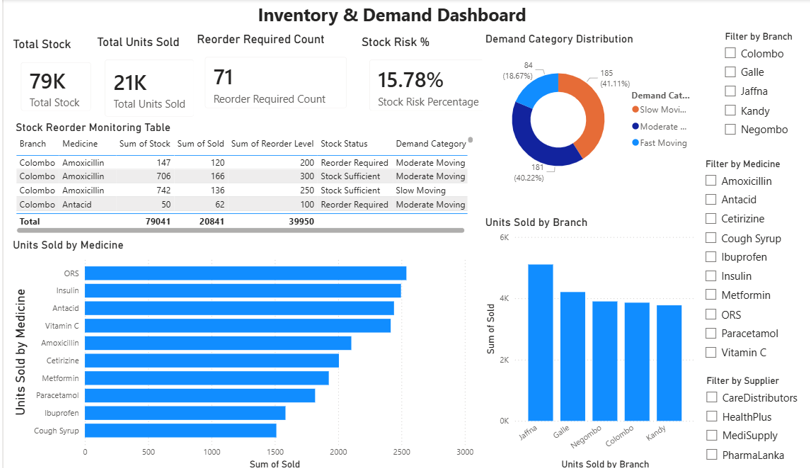

The dashboard page shown, as its layout file describes it:
{"tool":"powerbi","page":{"name":"Inventory & Demand Dashboard","canvas":[1280,720],"ordinal":0},"visuals":[{"type":"textbox","box":[10,0,280,280],"z":0},{"type":"textbox","box":[289.4,0,603.1,57.9],"z":1000},{"type":"cardVisual","title":"Total Stock","fields":{"Data":["medicare_data.Total Stock"]},"box":[9.4,57.8,141.2,129.1],"z":2000},{"type":"cardVisual","title":"Total Units Sold","fields":{"Data":["medicare_data.Total Units Sold"]},"box":[137.2,53.8,170.8,142.6],"z":2001},{"type":"cardVisual","title":"Reorder Required Count","fields":{"Data":["medicare_data.Reorder Required Count"]},"box":[289.1,49.8,250.1,133.1],"z":2002},{"type":"cardVisual","title":"Stock Risk %","fields":{"Data":["medicare_data.Stock Risk Percentage"]},"box":[539.3,53.8,219.2,133.1],"z":2003},{"type":"clusteredBarChart","title":"Units Sold by Medicine","fields":{"Category":["medicare_data.Medicine"],"Y":["Sum(medicare_data.Sold)"]},"box":[9.4,363.1,710.1,356.4],"z":2004},{"type":"clusteredColumnChart","title":"Units Sold by Branch","fields":{"Category":["medicare_data.Branch"],"Y":["Sum(medicare_data.Sold)"]},"box":[727.6,328.1,329.5,391.3],"z":2005},{"type":"donutChart","title":"Demand Category Distribution","fields":{"Category":["medicare_data.Demand Category"],"Y":["CountNonNull(medicare_data.Medicine)"]},"box":[727.6,49.8,328.1,247.4],"z":2006},{"type":"tableEx","title":"Stock Reorder Monitoring Table","fields":{"Values":["medicare_data.Branch","medicare_data.Medicine","Sum(medicare_data.Stock)","Sum(medicare_data.Sold)","Sum(medicare_data.Reorder Level)","medicare_data.Stock Status","medicare_data.Demand Category"]},"box":[13.4,184.2,706,176.2],"z":2007},{"type":"slicer","fields":{"Values":["medicare_data.Branch"]},"box":[1083.9,43,158.7,193.7],"z":2008},{"type":"slicer","fields":{"Values":["medicare_data.Supplier"]},"box":[1055.7,566.2,162.7,153.3],"z":2009},{"type":"slicer","fields":{"Values":["medicare_data.Medicine"]},"box":[1054.3,236.7,188.3,320.1],"z":2010}]}

Visuals, with their boxes in screenshot pixels (x1, y1, x2, y2), scaled from the page's 1280x720 canvas onto the 810x468 screenshot:
textbox: region(6, 0, 184, 182)
textbox: region(183, 0, 565, 38)
"Total Stock" cardVisual: region(6, 38, 95, 121)
"Total Units Sold" cardVisual: region(87, 35, 195, 128)
"Reorder Required Count" cardVisual: region(183, 32, 341, 119)
"Stock Risk %" cardVisual: region(341, 35, 480, 121)
"Units Sold by Medicine" clusteredBarChart: region(6, 236, 455, 467)
"Units Sold by Branch" clusteredColumnChart: region(460, 213, 669, 467)
"Demand Category Distribution" donutChart: region(460, 32, 668, 193)
"Stock Reorder Monitoring Table" tableEx: region(8, 120, 455, 234)
slicer - medicare_data.Branch: region(686, 28, 786, 154)
slicer - medicare_data.Supplier: region(668, 368, 771, 467)
slicer - medicare_data.Medicine: region(667, 154, 786, 362)
